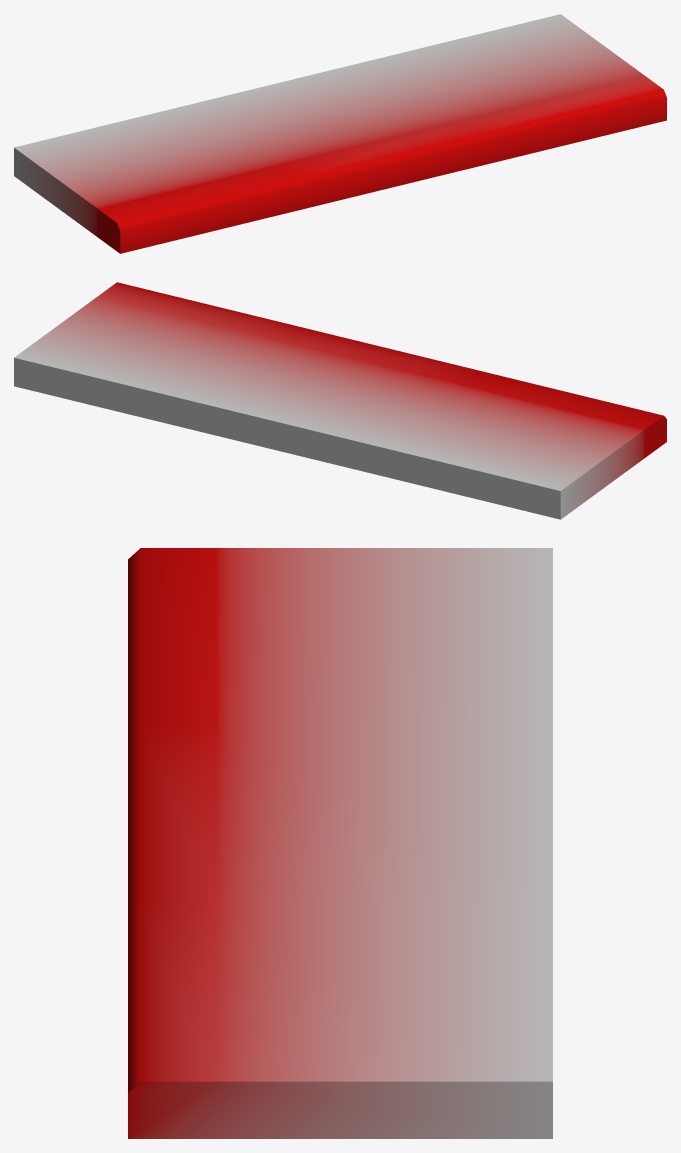
The model's file is Sidewalk_Straight_1x3m.gltf.
3 views of the same model, one above another, from view 1: azimuth 30°, elevation 25°; view 2: azimuth 150°, elevation 25°; view 3: azimuth 270°, elevation 25° (orthographic). The views are drawn at different scales.
Visible parts, largest first — view 1: Sidewalk_Straight_1x3m; view 2: Sidewalk_Straight_1x3m; view 3: Sidewalk_Straight_1x3m.
Boxes of the visible parts, x1=… form: Sidewalk_Straight_1x3m: x1=14, y1=14, x2=666, y2=253; Sidewalk_Straight_1x3m: x1=14, y1=282, x2=666, y2=519; Sidewalk_Straight_1x3m: x1=128, y1=548, x2=552, y2=1138.
Size of what is drawn, in the model's own units: 3 by 0.15 by 1.01.
